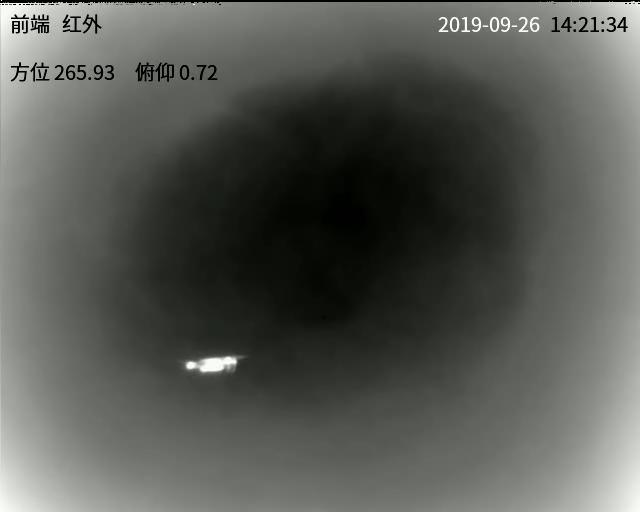uav: (180, 352, 251, 374)
